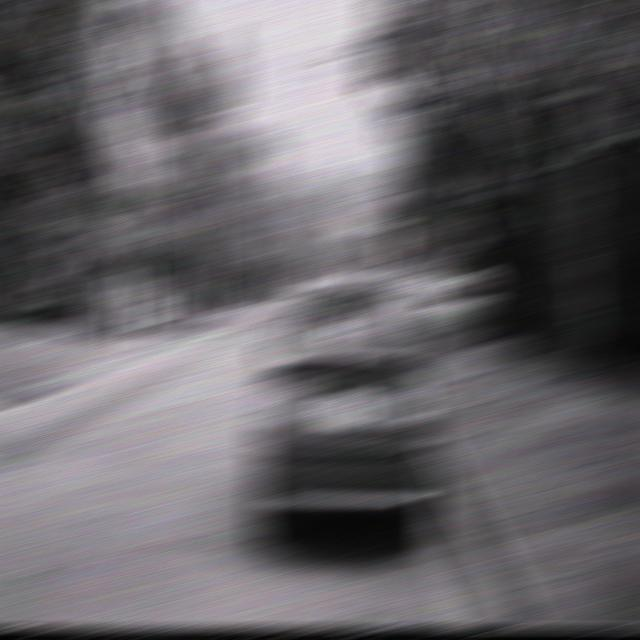stop: (378, 235, 408, 258)
